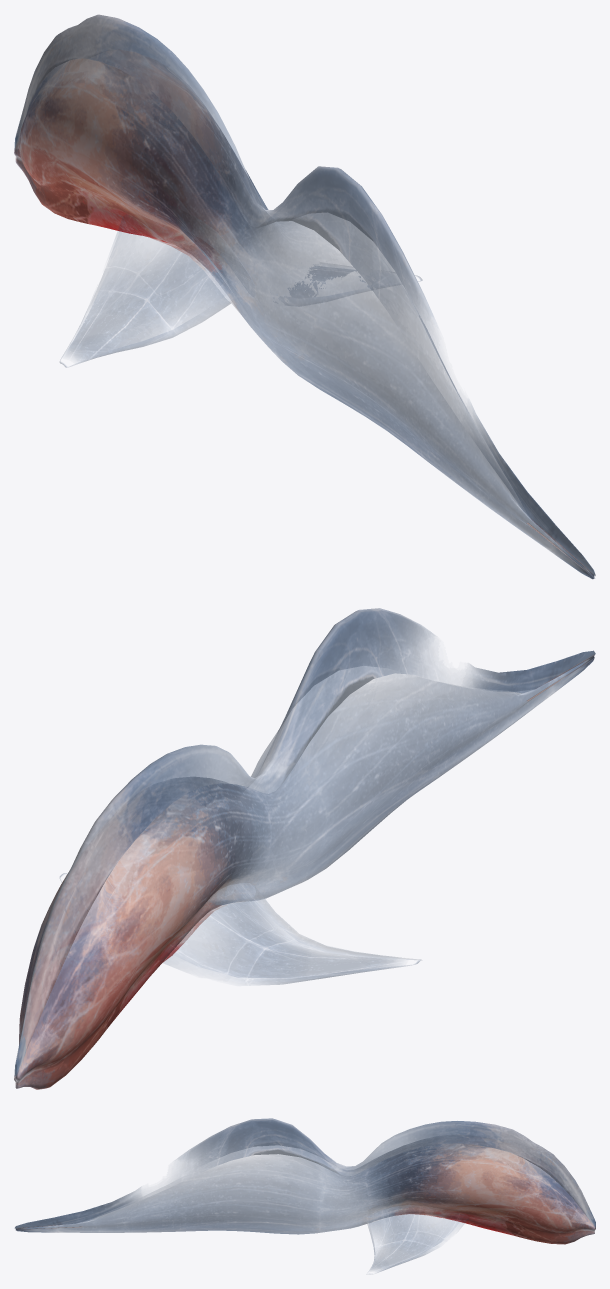
The model's file is Transparent Sea Snail.glb.
The picture shows the model from 3 angles, top to bottom: view 1: azimuth 30°, elevation 25°; view 2: azimuth 150°, elevation 25°; view 3: azimuth 270°, elevation 25°; orthographic projection. The views are drawn at different scales.
Visible parts, largest first — view 1: Circle.001; view 2: Circle.001; view 3: Circle.001.
Boxes of the visible parts, <box> form: Circle.001: <box>14,14,595,579</box>; Circle.001: <box>14,608,595,1089</box>; Circle.001: <box>14,1118,595,1272</box>.
Size of the model in its own units: 1.64 by 1.1 by 4.6.
Materials: 1 (1 with a texture image).
